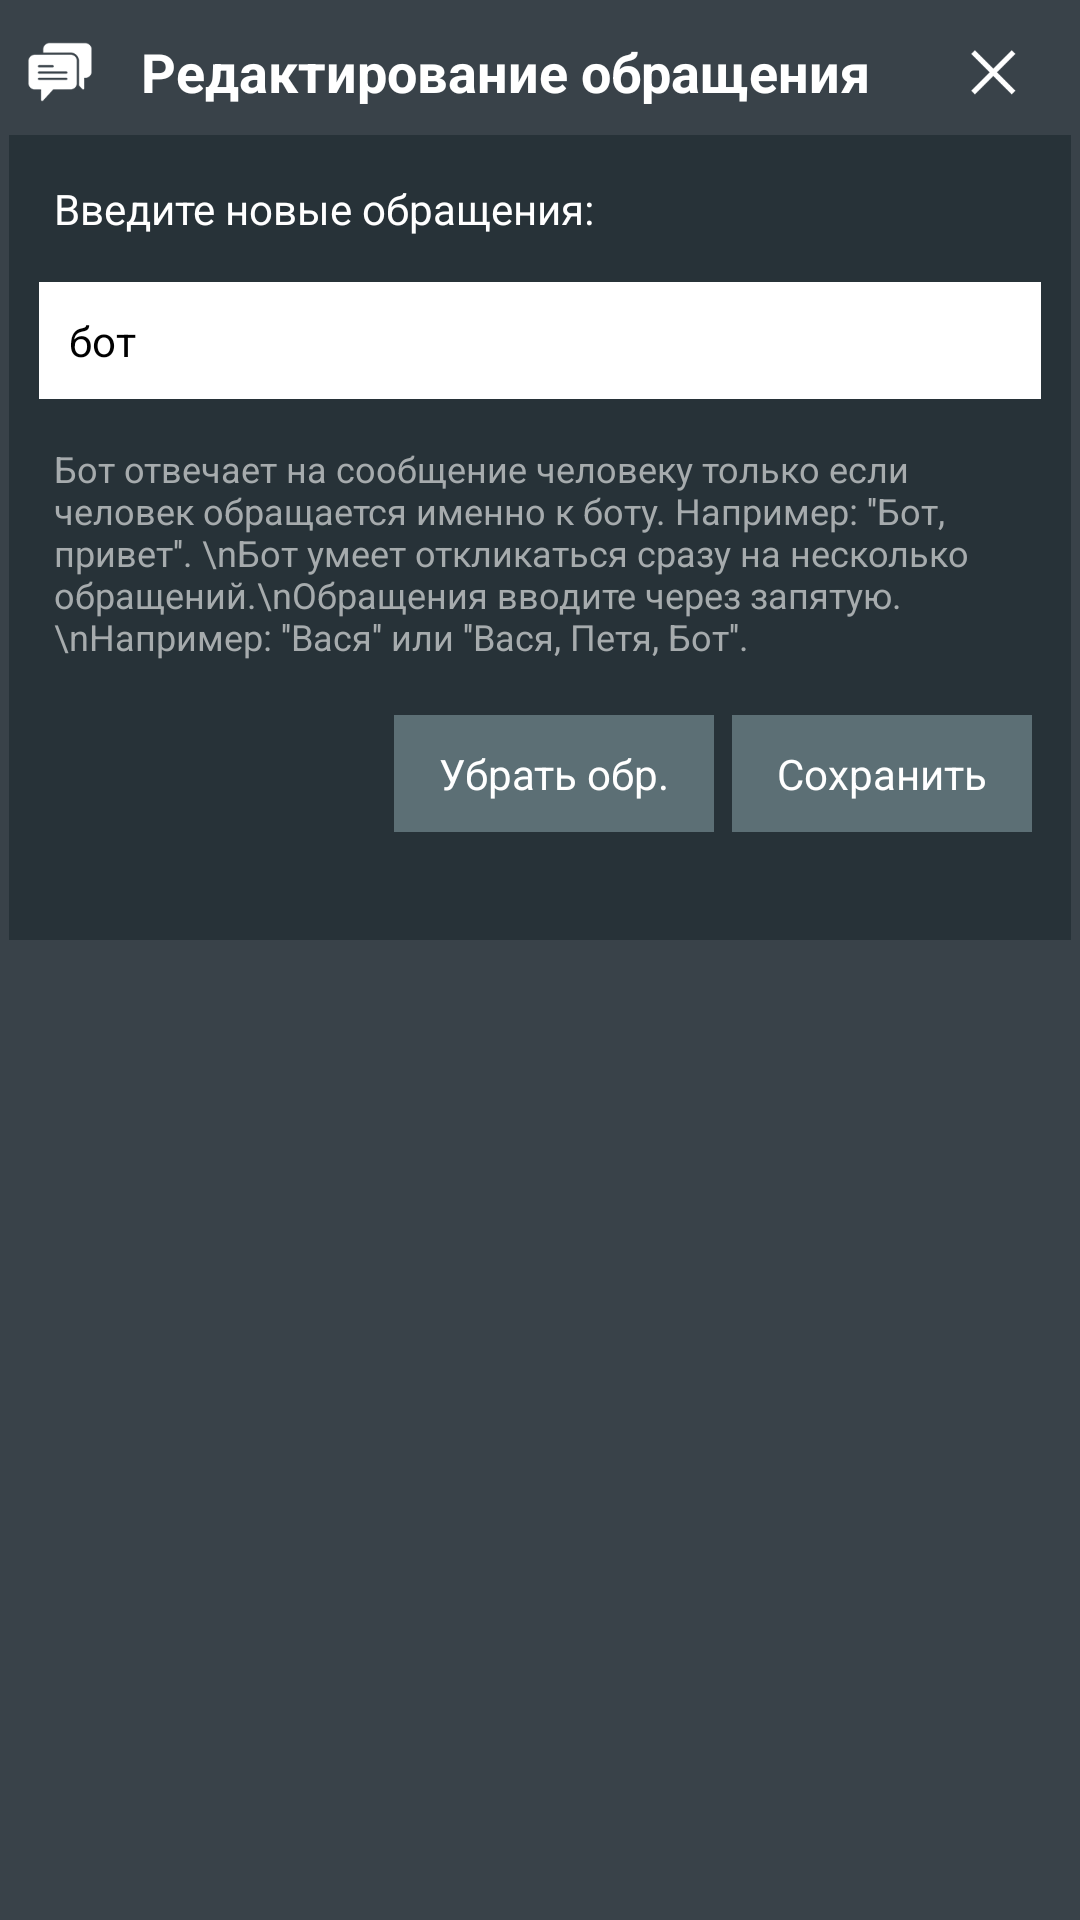

Locate icon controls on the screen. Image size 1080x1920, boxes as (x1, y1, x2, y2).
chat: (28, 43, 92, 101)
cross: (971, 50, 1016, 95)
